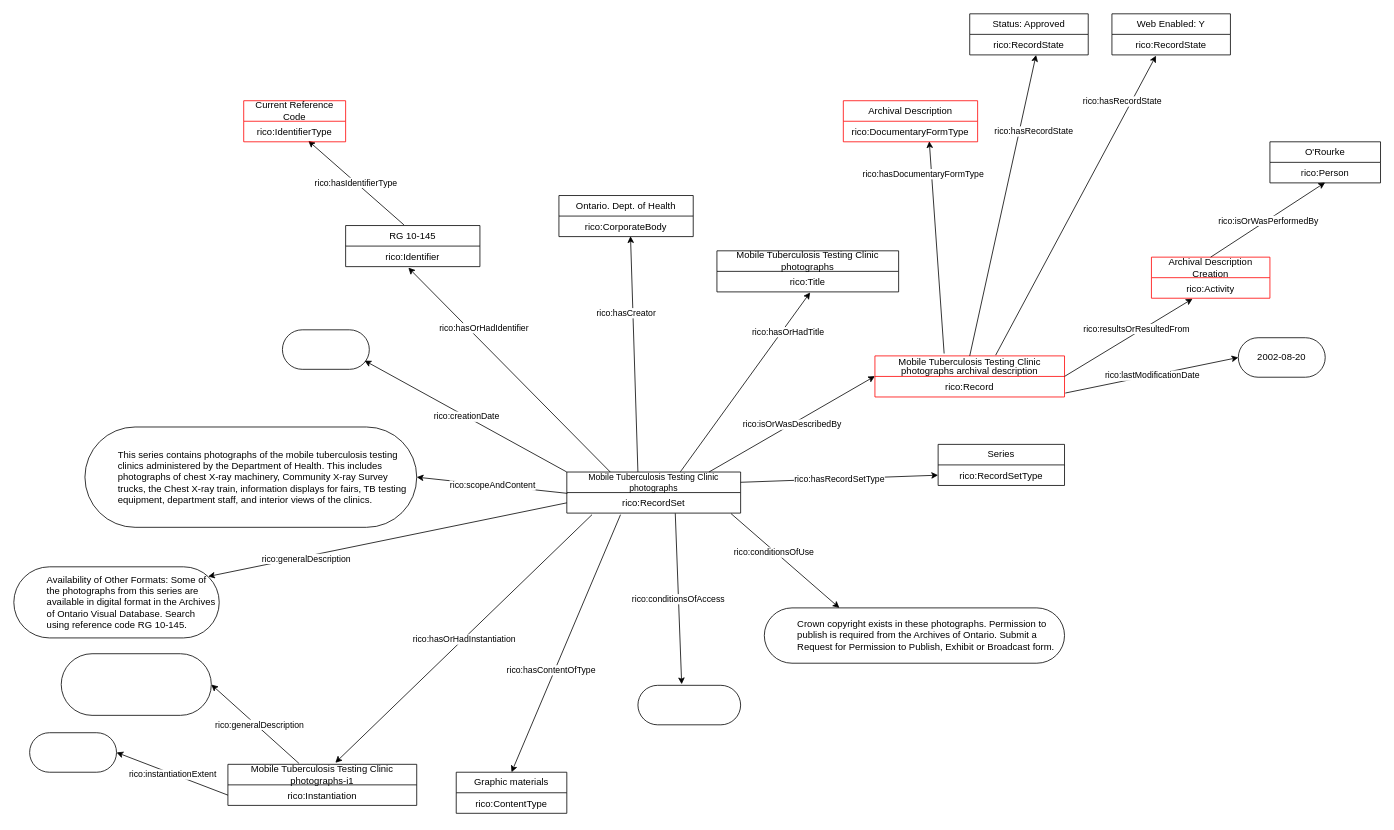
The diagram is 1394 pixels wide and 830 high, and some of its shapes have lost their labels. Each missing label, with the centre of its shape:
"[ca. 1950]-1964" belongs at pixel 325 349.
"ca. 200 photographs" belongs at pixel 73 752.
"How to Order: To view these records, order Series RG 10-145, container B 972." belongs at pixel 135 684.
"No restrictions on access." belongs at pixel 689 705.
